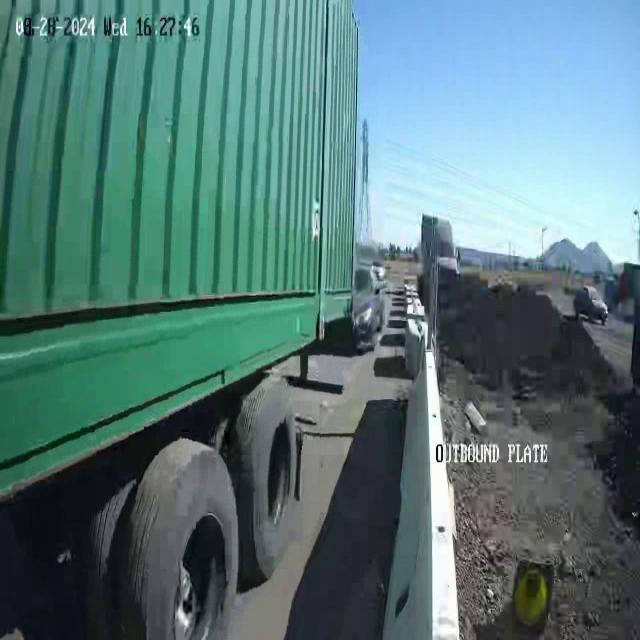CONTAINER: (0, 3, 364, 484)
